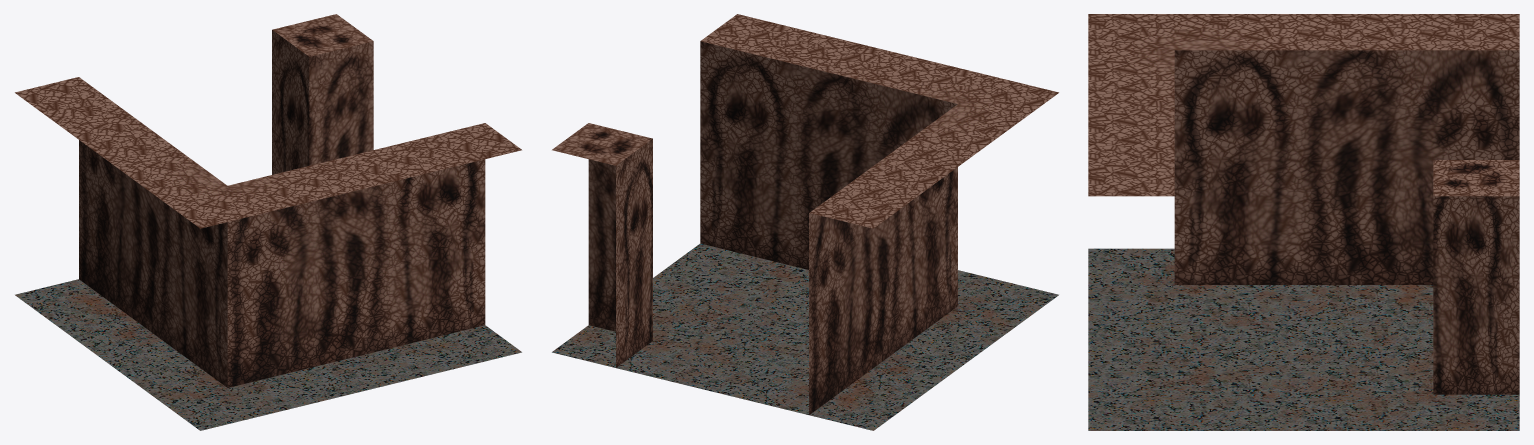
Rendered from Wall_Turn.fbx.
3 views of the same model, side by side, from view 1: azimuth 30°, elevation 25°; view 2: azimuth 150°, elevation 25°; view 3: azimuth 270°, elevation 25° (orthographic). The views are drawn at different scales.
Visible parts, largest first — view 1: Wall_Turn; view 2: Wall_Turn; view 3: Wall_Turn.
Part boxes in pixels (<box>): Wall_Turn: <box>15,14,521,430</box>; Wall_Turn: <box>552,14,1058,430</box>; Wall_Turn: <box>1088,14,1519,430</box>.
Size of the model in its own units: 100 by 60 by 100.
1 material, 1 textured.
